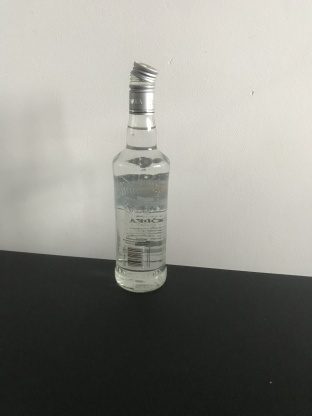nakretka: (127, 58, 159, 114)
